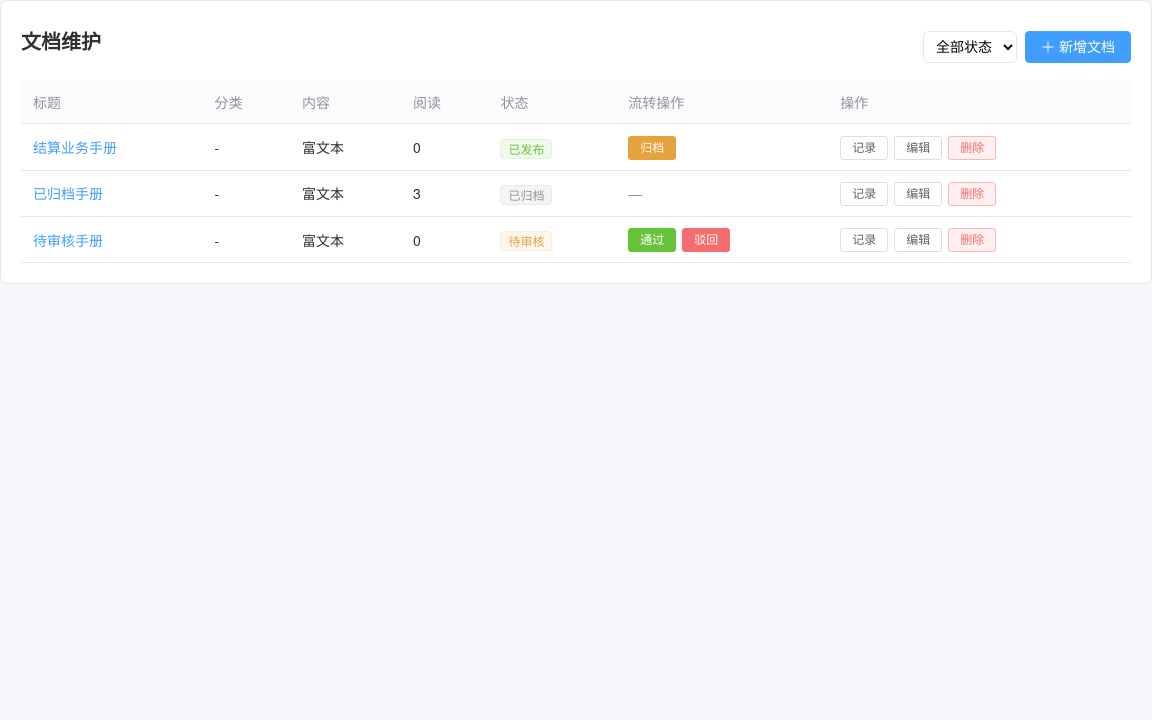
Test: DocumentManageView 文档管理页 › 查看状态流转记录展示处理意见
The image size is (1152, 720).
Click the button "记录" in the row of "结算业务手册". click: (864, 148)
box: [840, 136, 888, 160]
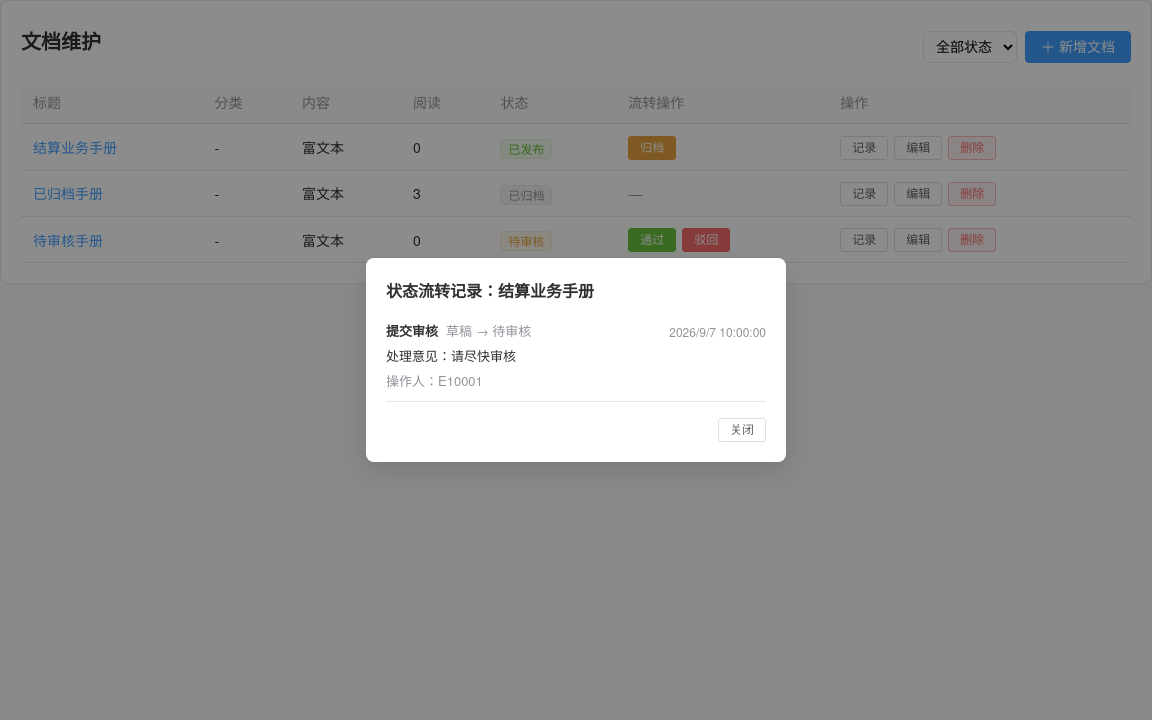
Expected: the element that starts with "状态流转记录：结算业务手册" shows "提交审核", [386, 321, 438, 340]
Expected: the element that starts with "状态流转记录：结算业务手册" shows "请尽快审核", [386, 346, 516, 365]
